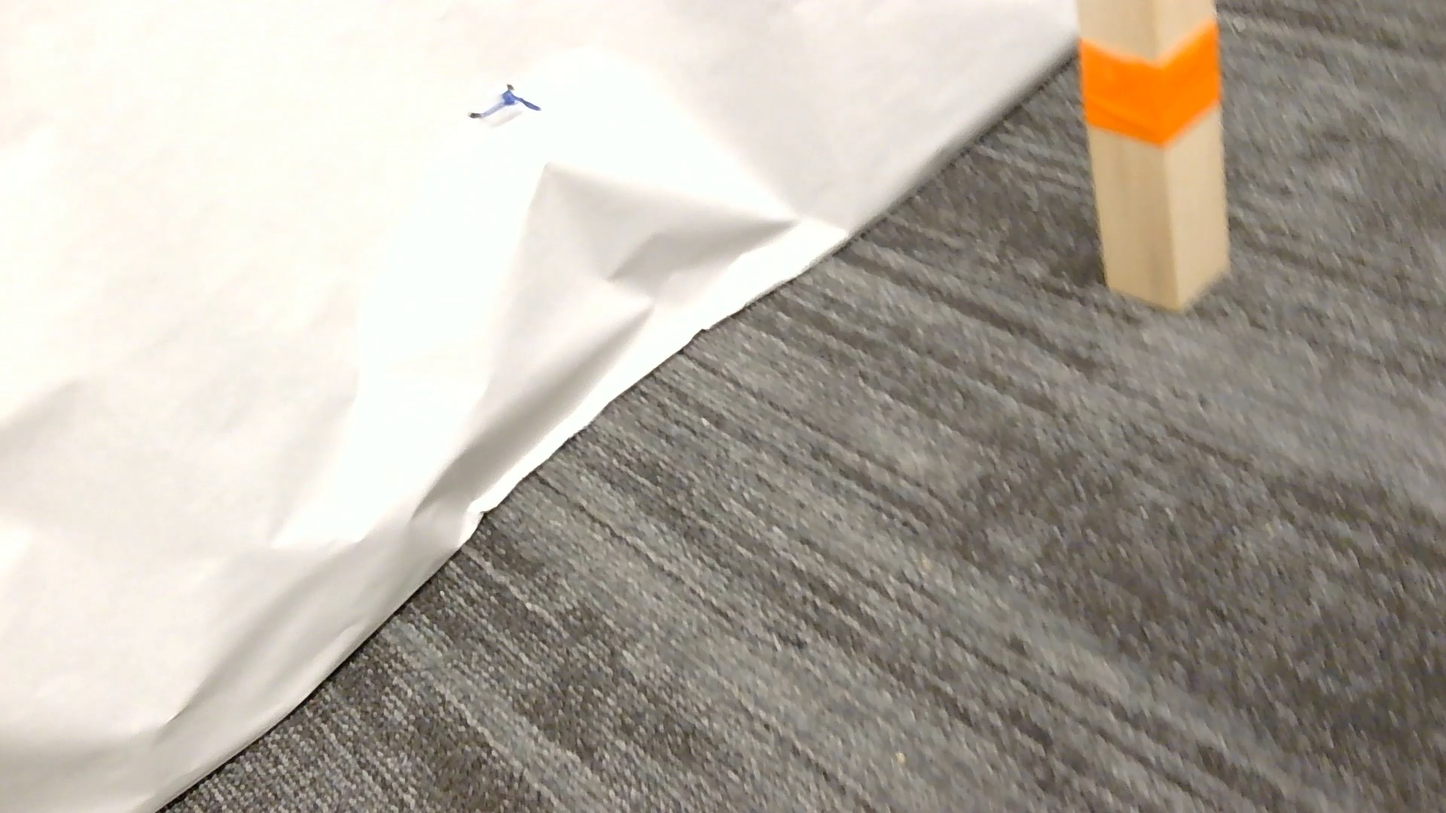Wooden Block: (1076, 0, 1228, 309)
